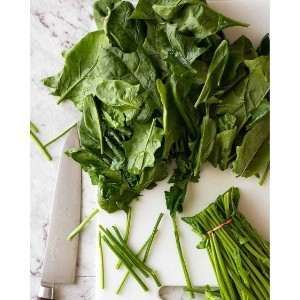spinach_brain food: (69, 21, 255, 230)
